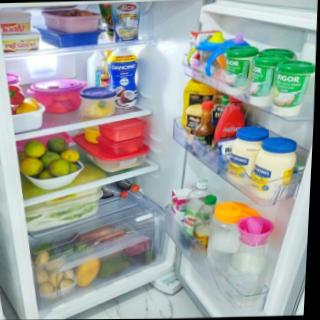Drinks: (224, 219, 273, 302), (203, 201, 238, 281)
Juice: (102, 48, 143, 111)
beverage: (98, 184, 130, 203), (120, 177, 144, 192)
fruit: (75, 258, 100, 288), (20, 155, 43, 174), (46, 159, 68, 174), (46, 136, 66, 151), (59, 147, 79, 162), (24, 142, 47, 155)
